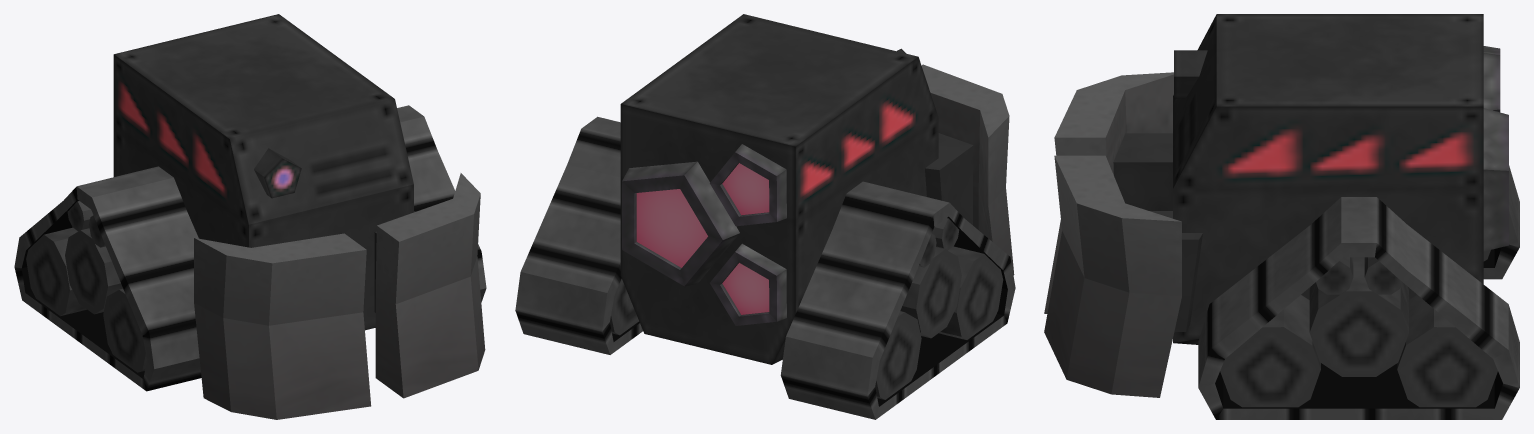
The model's file is DasherEnemy.fbx.
3 views of the same model, side by side, from view 1: azimuth 30°, elevation 25°; view 2: azimuth 150°, elevation 25°; view 3: azimuth 270°, elevation 25° (orthographic). The views are drawn at different scales.
Visible parts, largest first — view 1: DasherBody, DasherTracks; view 2: DasherBody, DasherTracks; view 3: DasherBody, DasherTracks.
Part boxes in pixels (box(x1,y1,x2,y2)): DasherBody: box(26, 14, 485, 419); DasherTracks: box(14, 105, 486, 391); DasherBody: box(610, 14, 1014, 399); DasherTracks: box(515, 116, 1015, 419); DasherBody: box(1044, 14, 1508, 407); DasherTracks: box(1198, 165, 1519, 419).
Bounding box in the file's own units: 1.3 × 0.8637 × 1.4.
2 materials, 2 textured.
